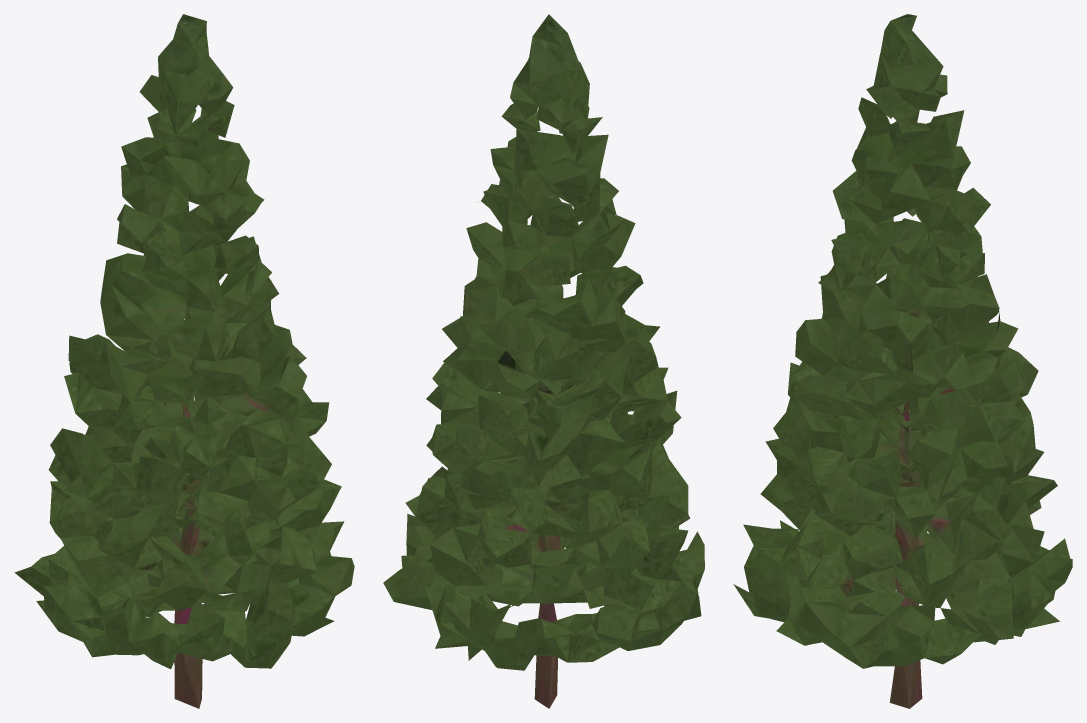
The model's file is pine_tree.glb.
3 renders of one model, left to right at view 1: azimuth 30°, elevation 25°; view 2: azimuth 150°, elevation 25°; view 3: azimuth 270°, elevation 25°, orthographic.
Visible parts, largest first — view 1: Mesh_0; view 2: Mesh_0; view 3: Mesh_0.
Boxes of the visible parts, x1,y1,x2,y2 form: Mesh_0: (14,14,354,708); Mesh_0: (383,14,704,708); Mesh_0: (733,14,1072,708).
Size of the model in its own units: 0.8197 by 1.84 by 0.8242.
Materials: 1 (1 with a texture image).
